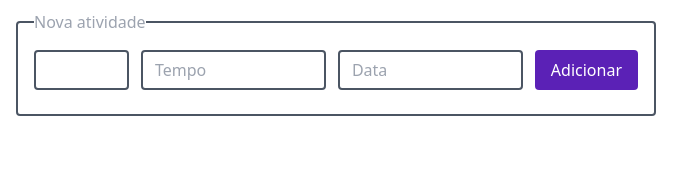
Scenario: FormCreateActivity component › should be able to show field errors
This screenshot has width=673, height=171.
Click the button "Adicionar". click: [586, 70]
box: [535, 50, 638, 90]
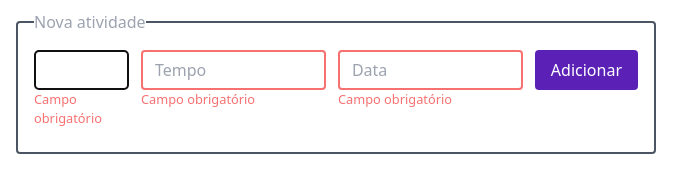
Check: the text "Campo obrigatório" is shown 3 times, box [34, 90, 102, 127]; [141, 90, 255, 108]; [338, 90, 452, 108]
